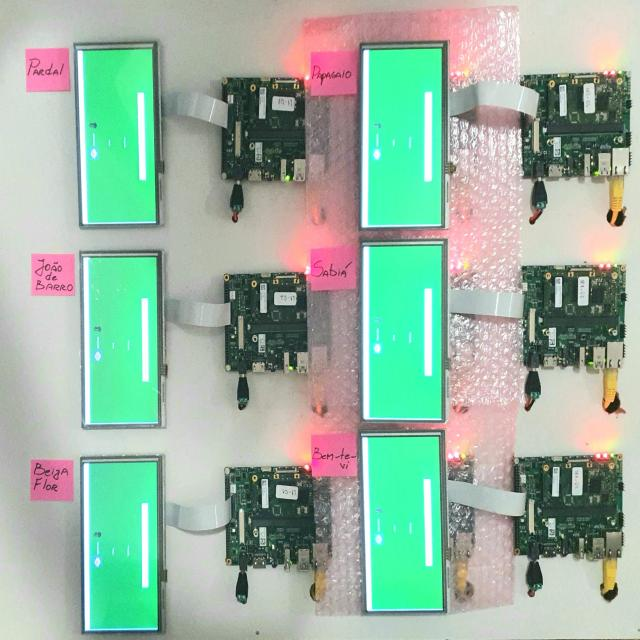som: (549, 80, 623, 133), (542, 463, 614, 516), (544, 274, 617, 323), (251, 476, 316, 523), (249, 92, 307, 141), (252, 287, 312, 329)
